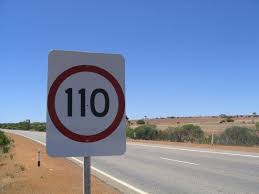Speed_limit_110km: (47, 64, 126, 142)
